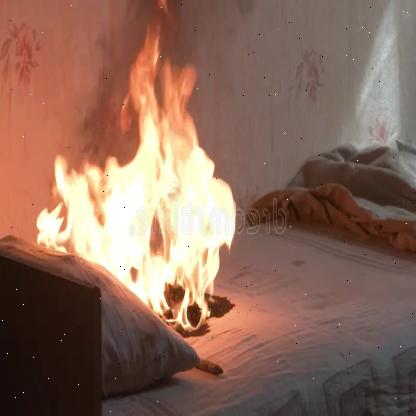fire: (32, 19, 239, 341)
smoke: (77, 0, 196, 161)
